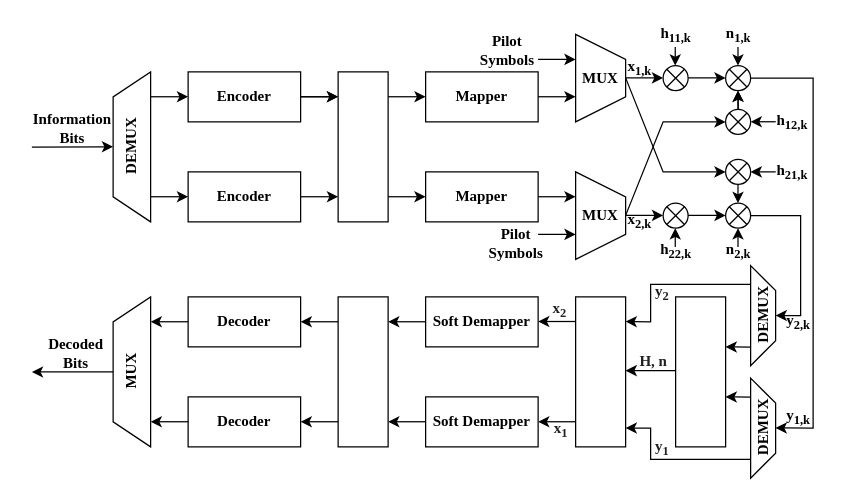
Image size: 845x500. Some labels were removed from this diagram. Here are the shapes that lost their labels. From the top down, the box of each, then its label:
(337, 71, 388, 222): Modulator
(337, 296, 388, 447): Demodulator
(574, 296, 626, 447): ZF Detector
(674, 296, 726, 447): Channel Estimation
